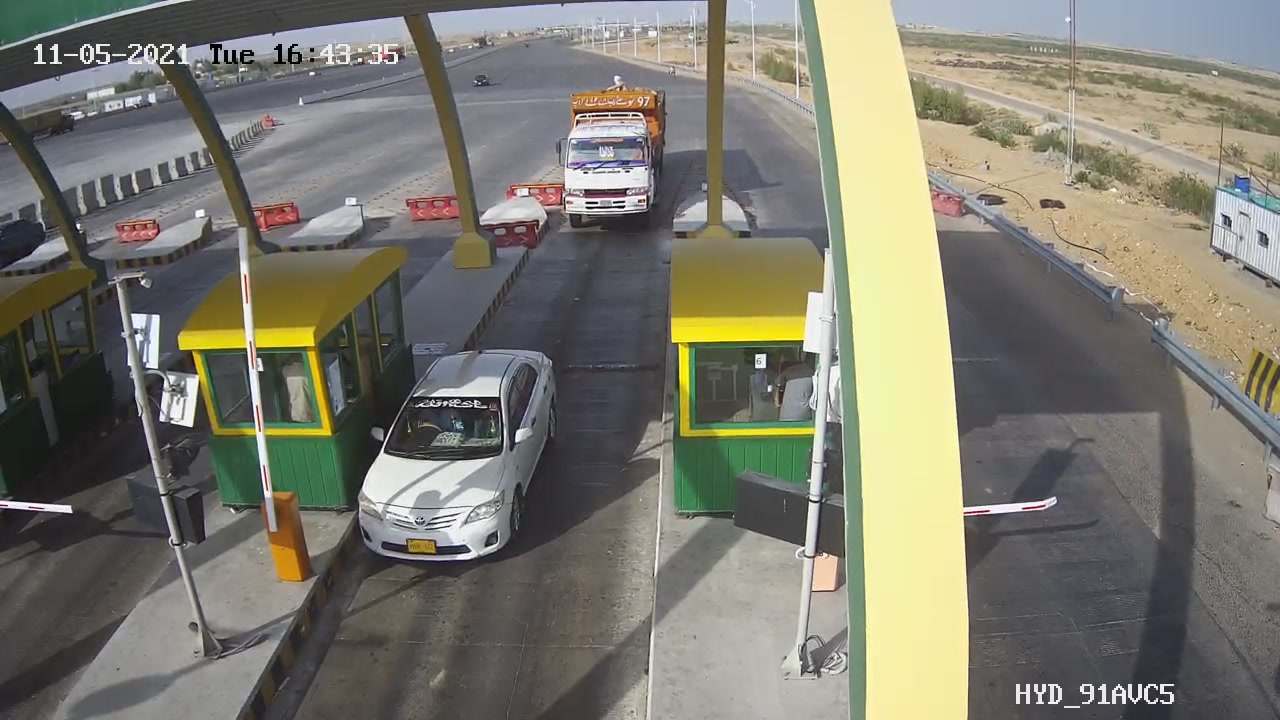F1: (335, 331, 587, 586)
